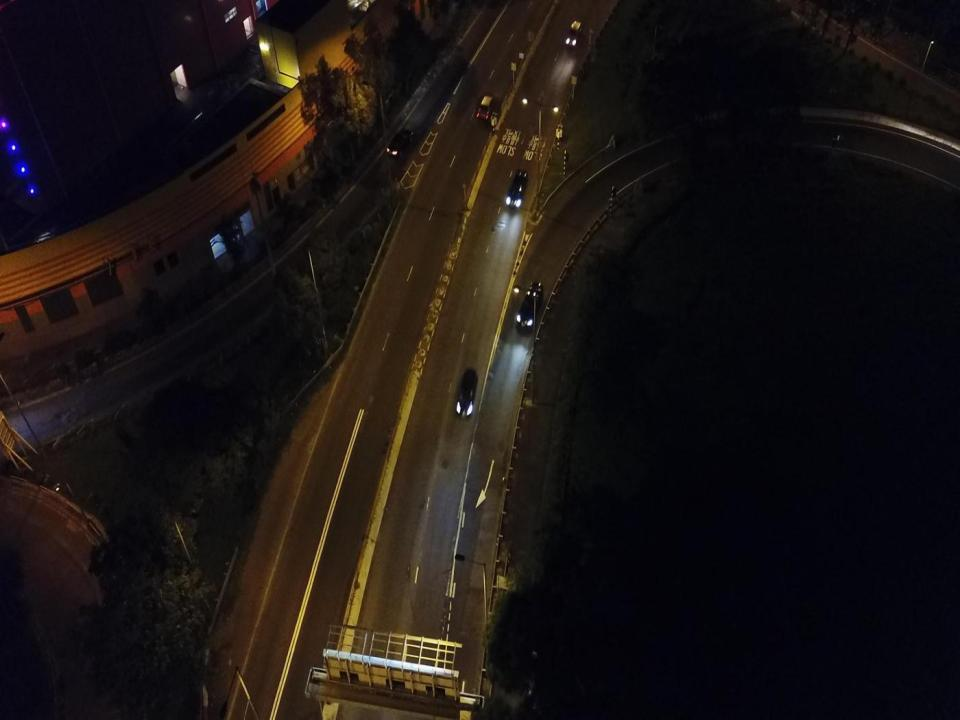car: (517, 278, 543, 331), (456, 366, 477, 418), (504, 168, 528, 210), (386, 127, 415, 158), (474, 94, 496, 120), (566, 19, 584, 50)
